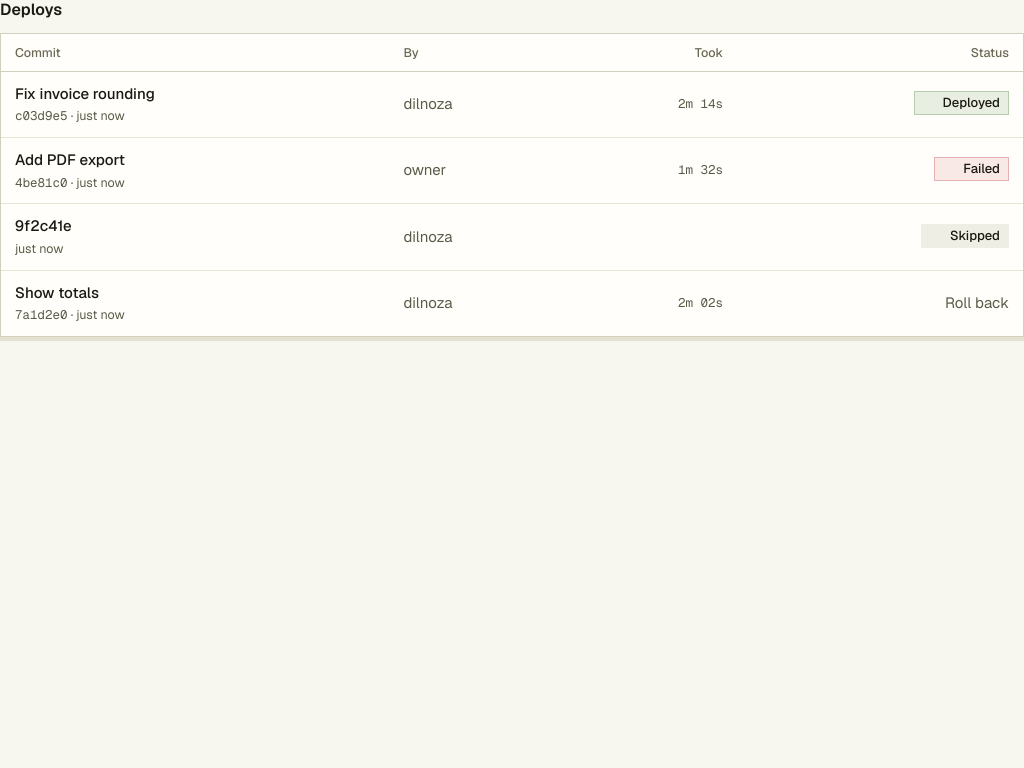
Events › rolls back to an earlier version after asking
The width and height of the screenshot is (1024, 768).
Later steps or results of the test are not shown.
Click the button "Roll back" at (977, 303), box [945,292,1009,314]
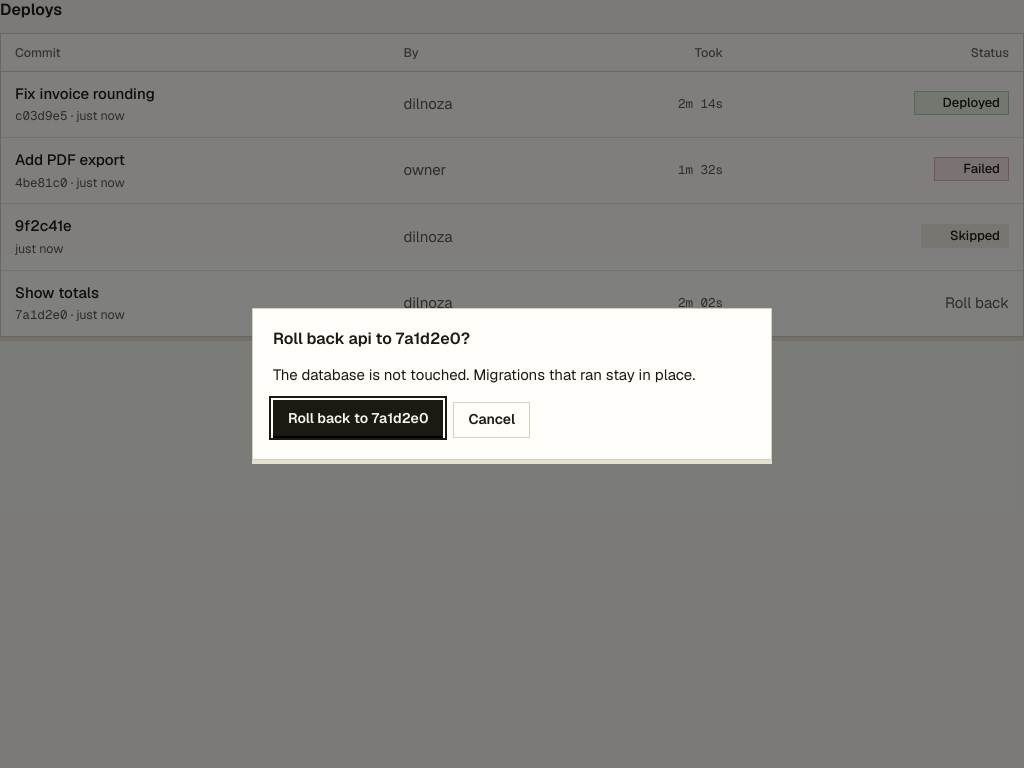
Result: the text "The database is not touched. Migrations that ran stay in place." is shown at [273,364,751,386]
